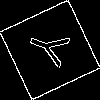Y: (25, 25, 80, 72)
